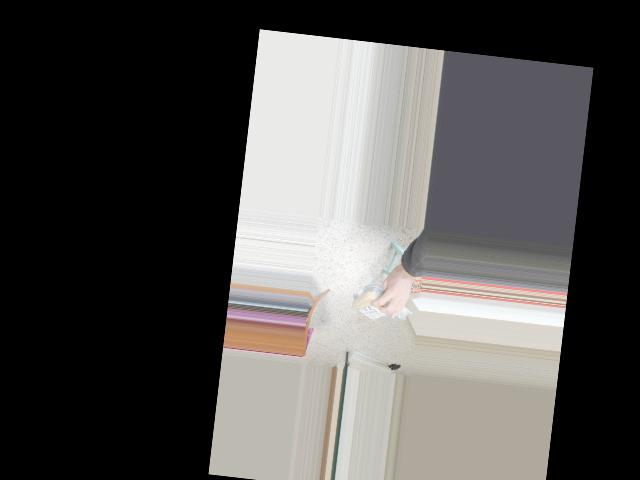cheese: (350, 288, 414, 325)
